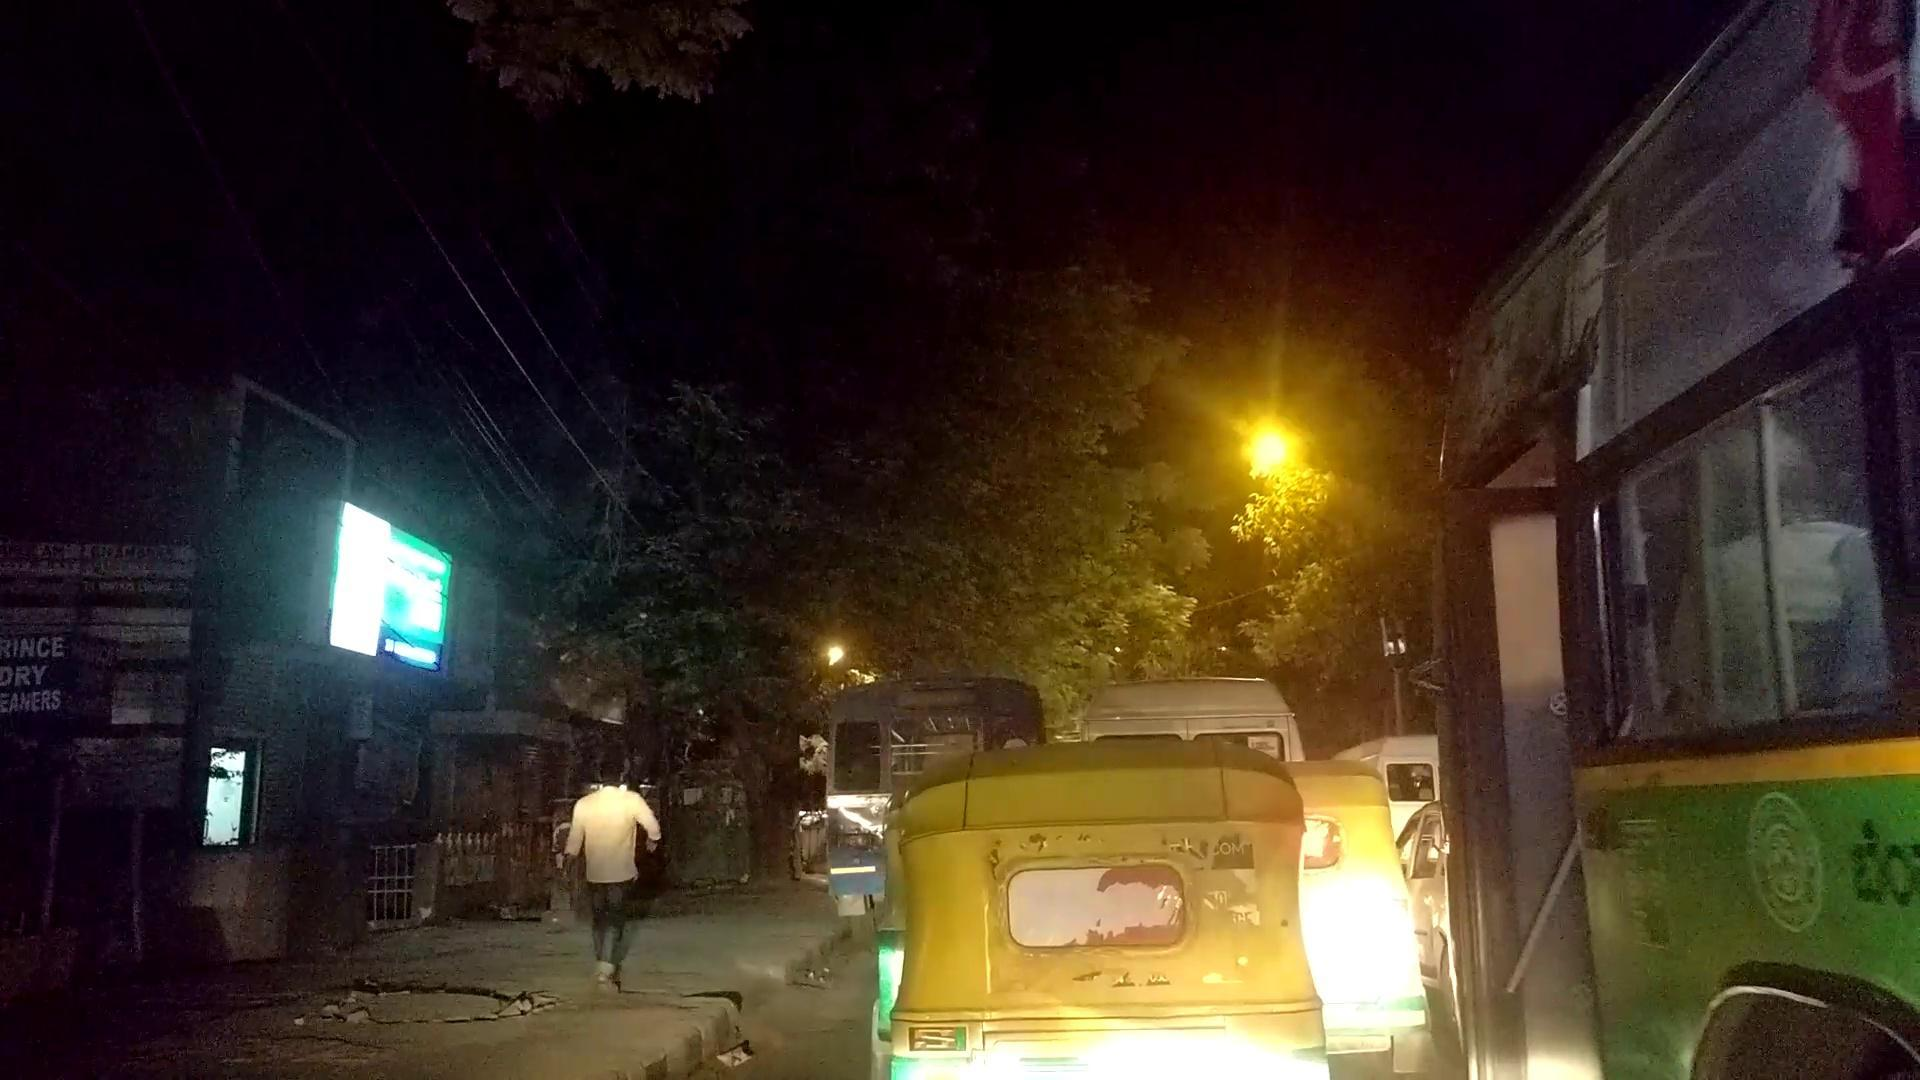on: (30, 3, 1920, 1080)
